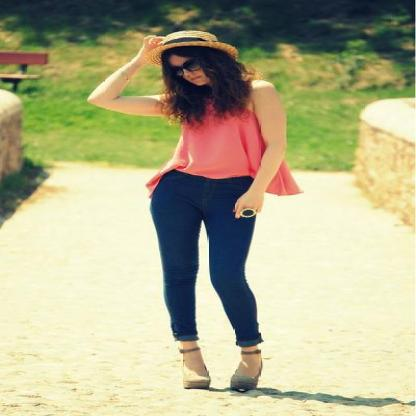hat: (130, 30, 236, 58)
pants: (150, 168, 263, 346)
shirt: (146, 102, 302, 195)
shoe: (184, 372, 261, 393)
sunglass: (161, 63, 186, 87)
